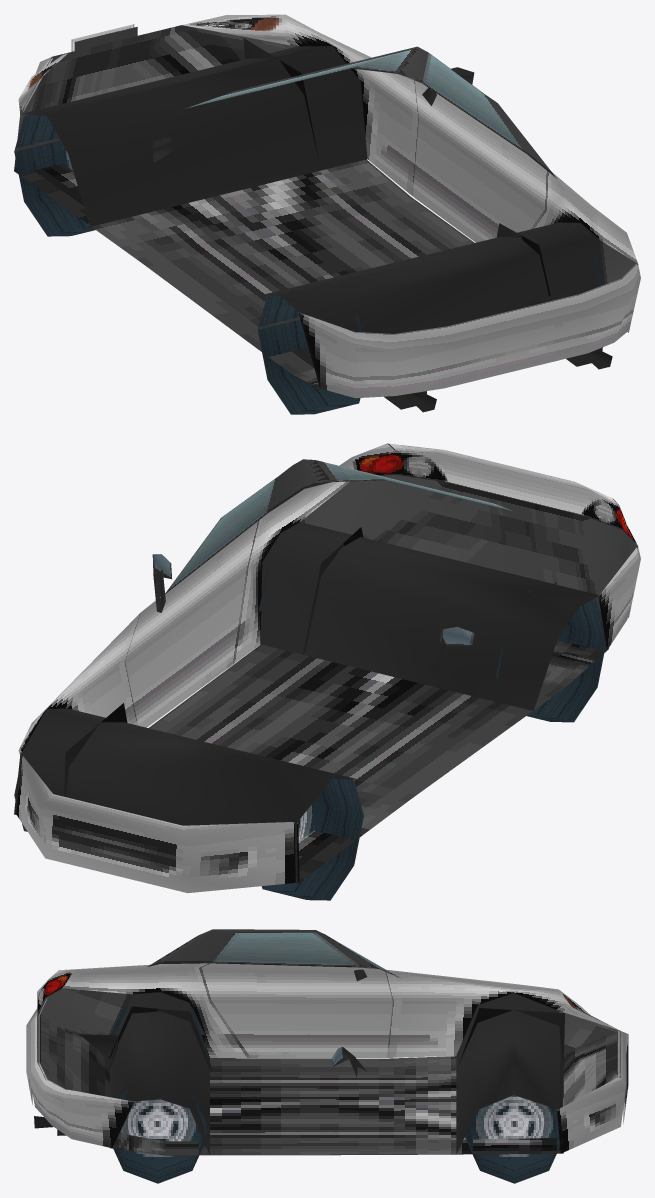
The model's file is ps2_save-icons_simple2000seriesvol68thetousouhighwaynagoyatokyo.glb.
3 views of the same model, one above another, from view 1: azimuth 30°, elevation 25°; view 2: azimuth 150°, elevation 25°; view 3: azimuth 270°, elevation 25° (orthographic). The views are drawn at different scales.
Visible parts, largest first — view 1: i0.ico; view 2: i0.ico; view 3: i0.ico.
Boxes of the visible parts, x1,y1,x2,y2 form: i0.ico: (14, 14, 640, 414); i0.ico: (14, 443, 640, 900); i0.ico: (26, 929, 628, 1183).
Bounding box in the file's own units: 2.11 × 1.47 × 4.87.
Materials: 1 (1 with a texture image).
